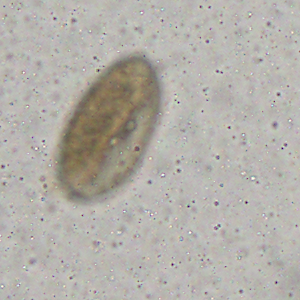Fasciola_hepatica_egg: (56, 53, 160, 201)
